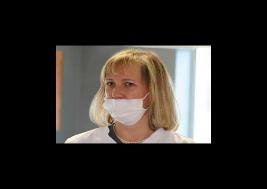mask_weared_incorrect: (105, 78, 142, 122)
